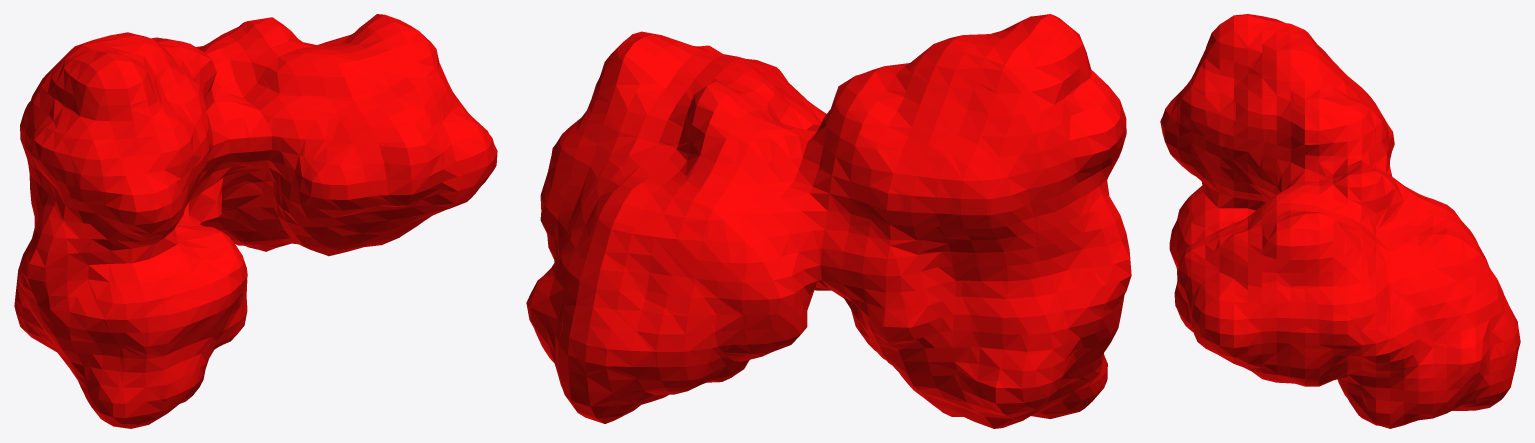
Rendered from Renin_receptor_coarse.dae.
3 views of the same model, side by side, from view 1: azimuth 30°, elevation 25°; view 2: azimuth 150°, elevation 25°; view 3: azimuth 270°, elevation 25° (orthographic). The views are drawn at different scales.
Parts seen in each view (by area): view 1: Renin_receptor; view 2: Renin_receptor; view 3: Renin_receptor.
Part boxes in pixels (left/top/right/bottom): Renin_receptor: left=14, top=14, right=497, bottom=428; Renin_receptor: left=526, top=14, right=1131, bottom=428; Renin_receptor: left=1160, top=14, right=1520, bottom=428.
Size of the model in its own units: 97.02 by 73.69 by 74.67.
